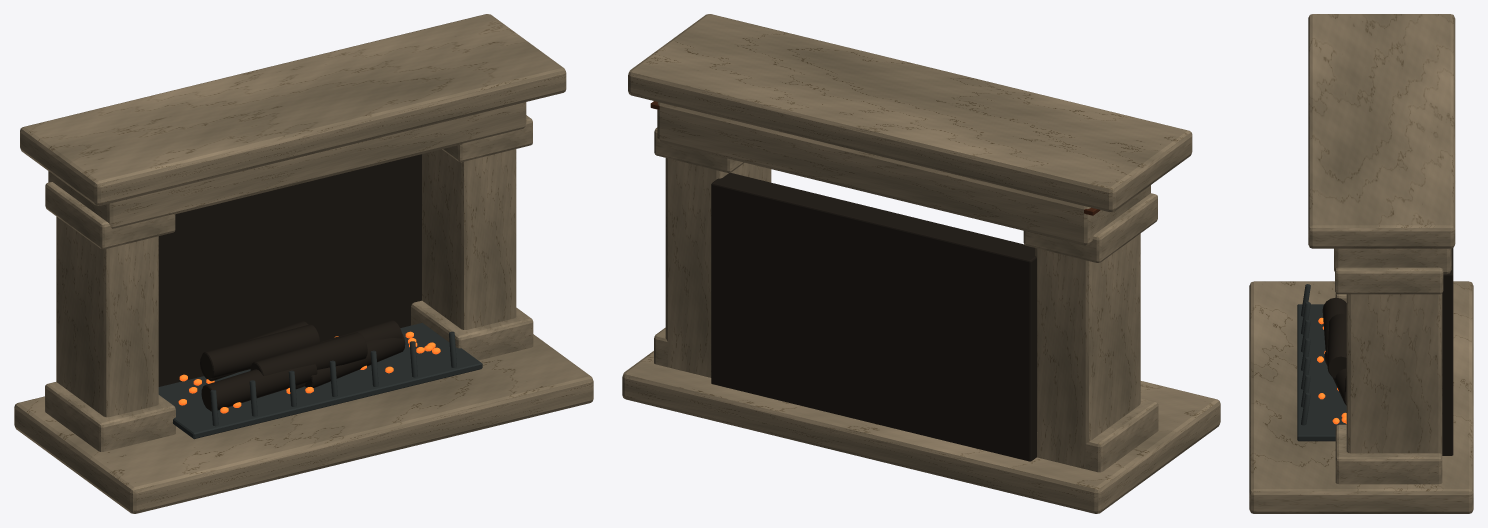
The model's file is fireplace.glb.
The picture shows the model from 3 angles, left to right: view 1: azimuth 30°, elevation 25°; view 2: azimuth 150°, elevation 25°; view 3: azimuth 270°, elevation 25°; orthographic projection. The views are drawn at different scales.
Parts seen in each view (by area): view 1: part::fireplace/mantel-floating-stone-ledge-001, part::fireplace/fireplace-dark-interior-001, part::fireplace/fireplace-stone-hearth-001, part::fireplace/fireplace-stone-jamb-001, part::fireplace/fireplace-stone-jamb-002, part::fireplace/fireplace-lintel-001, part::fireplace/fireplace-grate-001, part::fireplace/fireplace-pilaster-base-001, part::fireplace/fireplace-pilaster-base-002, part::fireplace/fireplace-pilaster-capital-001, part::fireplace/charred-oak-log-007, part::fireplace/charred-oak-log-006 (+4 smaller); view 2: part::fireplace/fireplace-dark-interior-001, part::fireplace/mantel-floating-stone-ledge-001, part::fireplace/fireplace-stone-hearth-001, part::fireplace/fireplace-stone-jamb-001, part::fireplace/fireplace-lintel-001, part::fireplace/fireplace-stone-jamb-002, part::fireplace/fireplace-pilaster-capital-001, part::fireplace/fireplace-pilaster-base-001, part::fireplace/fireplace-pilaster-capital-002; view 3: part::fireplace/mantel-floating-stone-ledge-001, part::fireplace/fireplace-stone-hearth-001, part::fireplace/fireplace-stone-jamb-002, part::fireplace/fireplace-grate-001, part::fireplace/fireplace-pilaster-base-002, part::fireplace/fireplace-pilaster-capital-002, part::fireplace/fireplace-lintel-001, part::fireplace/fireplace-dark-interior-001, part::fireplace/charred-oak-log-006, part::fireplace/charred-oak-log-003, part::fireplace/charred-oak-log-002.
Part boxes in pixels (left/top/right/bottom): part::fireplace/mantel-floating-stone-ledge-001: left=20, top=14, right=566, bottom=205; part::fireplace/fireplace-dark-interior-001: left=158, top=154, right=421, bottom=386; part::fireplace/fireplace-stone-hearth-001: left=14, top=334, right=593, bottom=513; part::fireplace/fireplace-stone-jamb-001: left=56, top=216, right=158, bottom=417; part::fireplace/fireplace-stone-jamb-002: left=422, top=149, right=516, bottom=329; part::fireplace/fireplace-lintel-001: left=48, top=102, right=526, bottom=228; part::fireplace/fireplace-grate-001: left=158, top=323, right=482, bottom=439; part::fireplace/fireplace-pilaster-base-001: left=45, top=381, right=175, bottom=451; part::fireplace/fireplace-pilaster-base-002: left=411, top=300, right=533, bottom=360; part::fireplace/fireplace-pilaster-capital-001: left=45, top=182, right=175, bottom=249; part::fireplace/charred-oak-log-007: left=201, top=324, right=320, bottom=379; part::fireplace/charred-oak-log-006: left=250, top=332, right=367, bottom=375; part::fireplace/fireplace-dark-interior-001: left=711, top=172, right=1036, bottom=461; part::fireplace/mantel-floating-stone-ledge-001: left=628, top=14, right=1192, bottom=212; part::fireplace/fireplace-stone-hearth-001: left=622, top=351, right=1220, bottom=513; part::fireplace/fireplace-stone-jamb-001: left=1035, top=233, right=1140, bottom=468; part::fireplace/fireplace-lintel-001: left=657, top=102, right=1150, bottom=245; part::fireplace/fireplace-stone-jamb-002: left=665, top=158, right=771, bottom=377; part::fireplace/fireplace-pilaster-capital-001: left=1023, top=193, right=1157, bottom=262; part::fireplace/fireplace-pilaster-base-001: left=1037, top=398, right=1158, bottom=472; part::fireplace/fireplace-pilaster-capital-002: left=654, top=127, right=744, bottom=172; part::fireplace/mantel-floating-stone-ledge-001: left=1308, top=14, right=1455, bottom=248; part::fireplace/fireplace-stone-hearth-001: left=1249, top=281, right=1473, bottom=513; part::fireplace/fireplace-stone-jamb-002: left=1346, top=294, right=1442, bottom=453; part::fireplace/fireplace-grate-001: left=1297, top=304, right=1346, bottom=441; part::fireplace/fireplace-pilaster-base-002: left=1335, top=424, right=1442, bottom=484; part::fireplace/fireplace-pilaster-capital-002: left=1335, top=267, right=1443, bottom=294; part::fireplace/fireplace-lintel-001: left=1334, top=248, right=1451, bottom=274; part::fireplace/fireplace-dark-interior-001: left=1442, top=248, right=1453, bottom=455; part::fireplace/charred-oak-log-006: left=1327, top=313, right=1346, bottom=378; part::fireplace/charred-oak-log-003: left=1322, top=297, right=1346, bottom=353; part::fireplace/charred-oak-log-002: left=1324, top=352, right=1346, bottom=405.
Bounding box in the file's own units: 2.77 × 1.75 × 1.22.
Materials: 5 (2 with a texture image).
